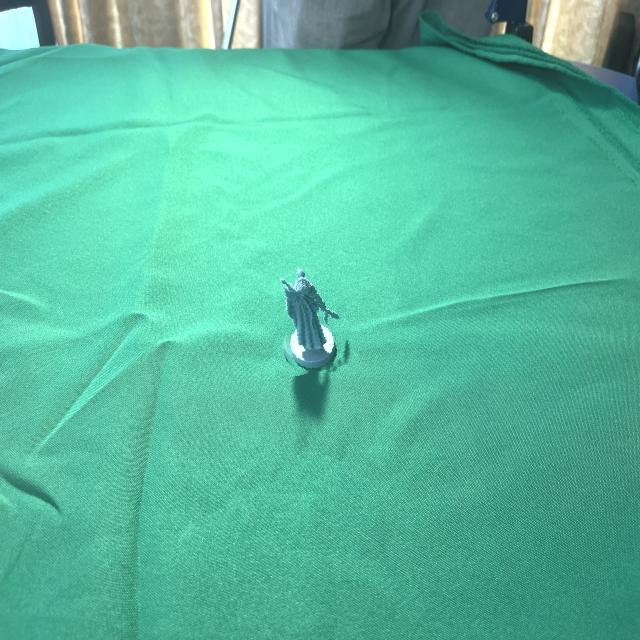isis_follower: (272, 258, 352, 374)
